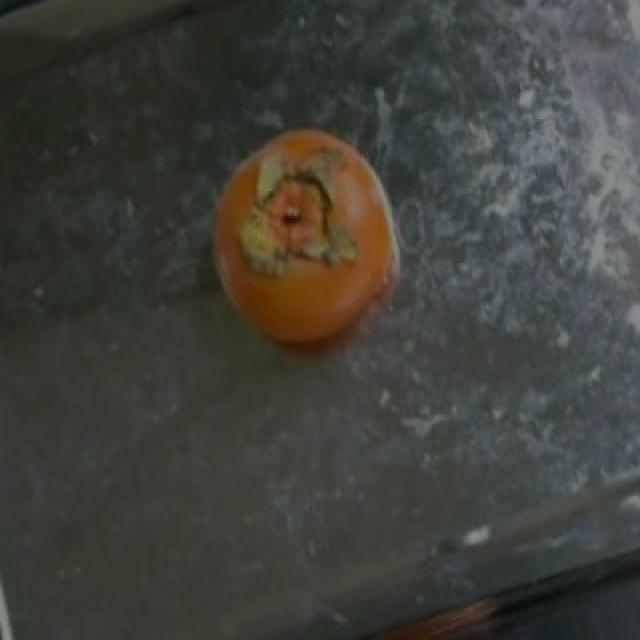Fruit: (184, 102, 428, 380)
